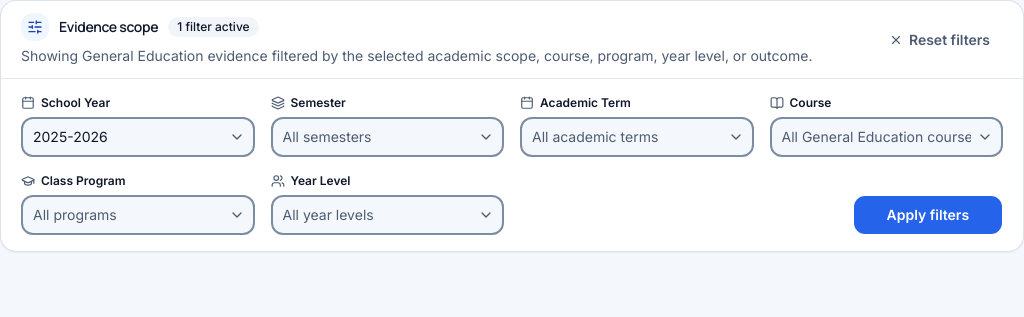
Test: GeneralEducationAnalyticsFilters › offers only the academic terms of the chosen school year
Step 1. Click the dropdown labelled "academic term" → (637,137), box [520,117,754,157]
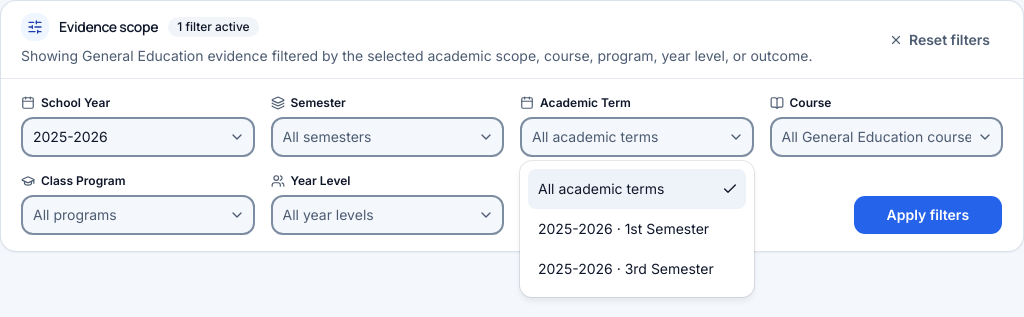
Result: the text "2025-2026 · 3rd Semester" is shown at [538,259,714,279]
